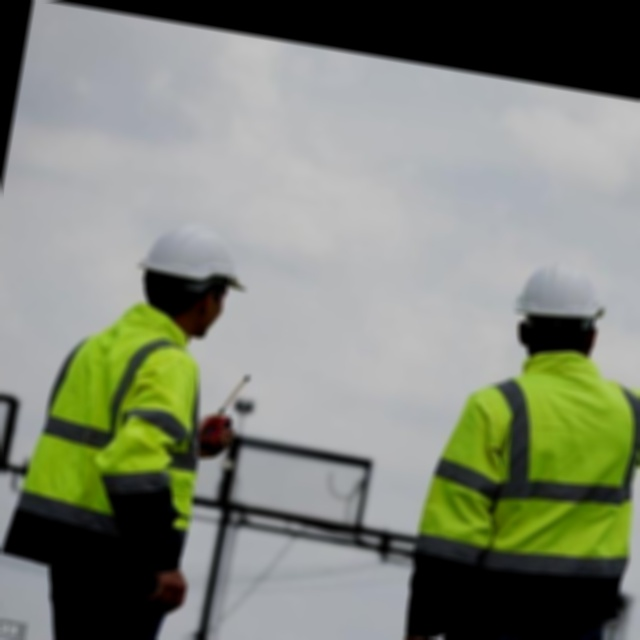Con_Casco: (126, 219, 257, 345), (508, 252, 614, 370)
Con_Chaleco: (18, 290, 226, 576), (422, 345, 640, 605)
